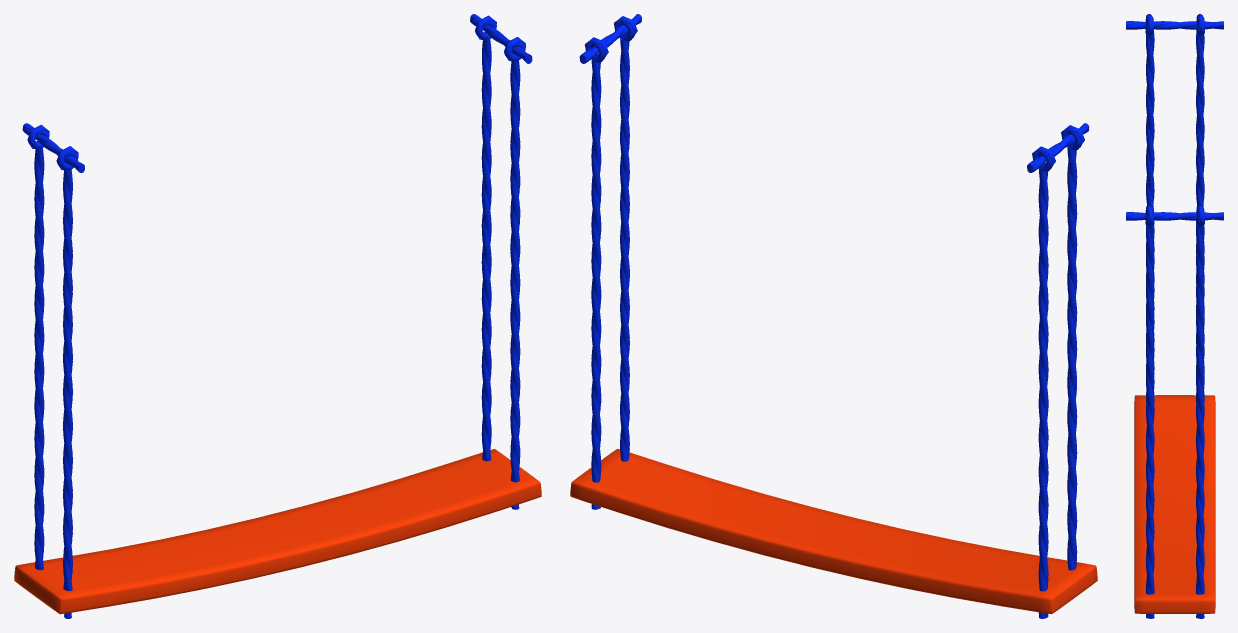
File: puente.FBX
3 renders of one model, left to right at view 1: azimuth 30°, elevation 25°; view 2: azimuth 150°, elevation 25°; view 3: azimuth 270°, elevation 25°, orthographic. The views are drawn at different scales.
Visible parts, largest first — view 1: Box001, Cylinder008, Cylinder007; view 2: Box001, Cylinder007, Cylinder008; view 3: Box001, Cylinder008, Cylinder007.
Part boxes in pixels (left/top/right/bottom): Box001: left=14, top=449, right=541, bottom=614; Cylinder008: left=470, top=14, right=532, bottom=509; Cylinder007: left=22, top=123, right=84, bottom=618; Box001: left=570, top=449, right=1097, bottom=614; Cylinder007: left=1027, top=123, right=1089, bottom=618; Cylinder008: left=579, top=14, right=641, bottom=509; Box001: left=1134, top=395, right=1215, bottom=613; Cylinder008: left=1126, top=205, right=1223, bottom=618; Cylinder007: left=1126, top=14, right=1223, bottom=402.
Bounding box in the file's own units: 299 × 278 × 60.
